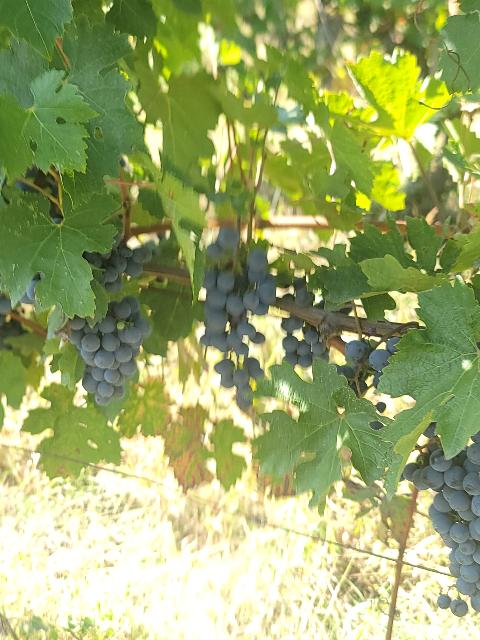grapes: (402, 422, 480, 611), (200, 226, 276, 410), (70, 296, 151, 405)
